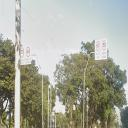speed_limit_50: (102, 40, 106, 51)
speed_limit_60: (26, 46, 30, 58), (96, 41, 100, 51)
speed_limit_70: (21, 47, 24, 58)
